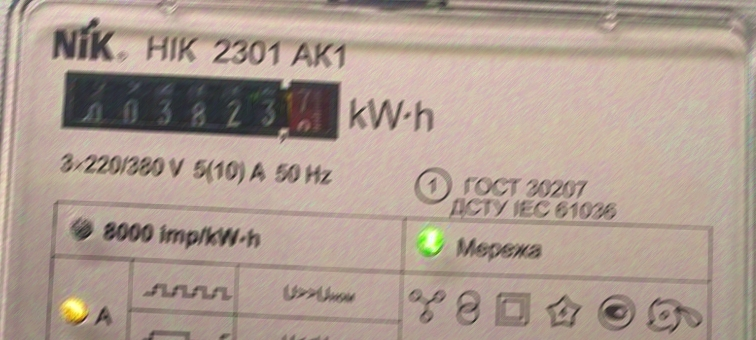0: (120, 94, 140, 121), (86, 97, 104, 120)
2: (225, 95, 244, 127)
3: (260, 95, 278, 125), (156, 94, 174, 123)
7: (297, 86, 314, 114)
8: (190, 97, 207, 125)
9: (88, 76, 107, 95)
screen: (55, 64, 345, 143)
